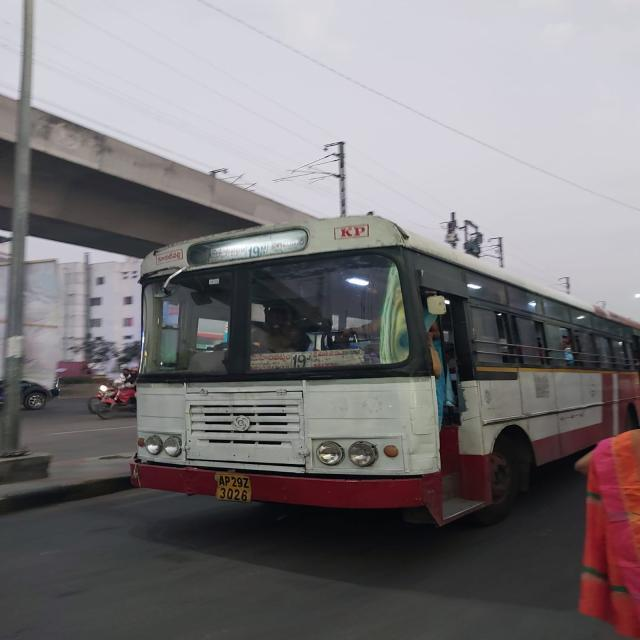Bus: (135, 205, 640, 530)
